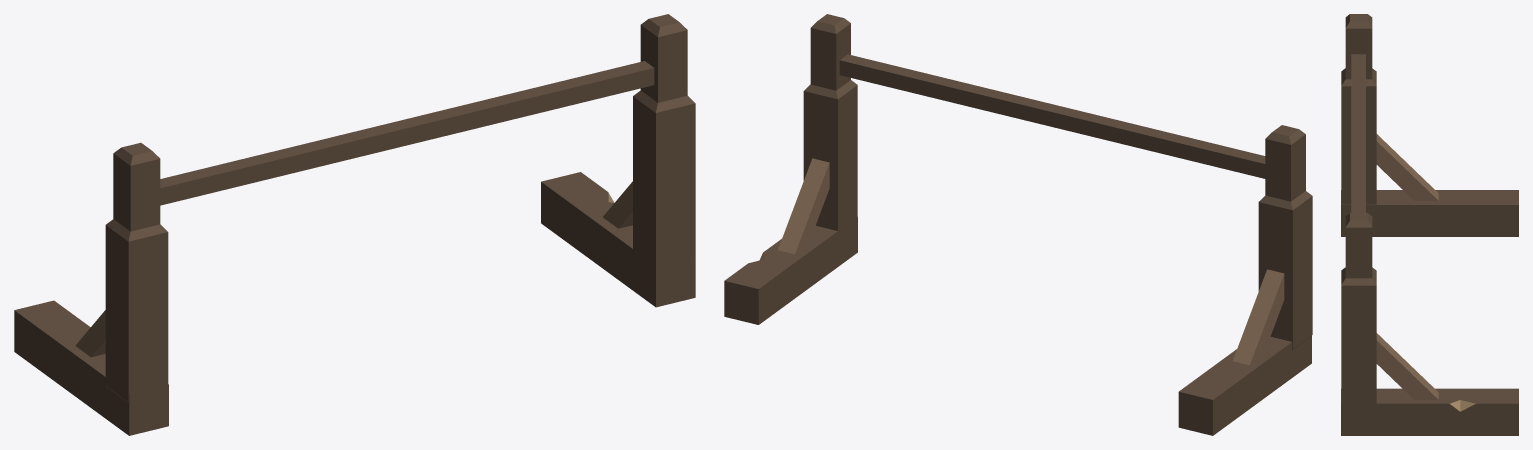
Rendered from weaponHolder.obj.
3 renders of one model, left to right at view 1: azimuth 30°, elevation 25°; view 2: azimuth 150°, elevation 25°; view 3: azimuth 270°, elevation 25°, orthographic. The views are drawn at different scales.
Visible parts, largest first — view 1: flume_support_pillar.009_flume_support_pillar.003, object1.017_object1.013, object1.022_object1.019, object1.020_object1.017, object1.013_object1.009, object3.009_object3.003, object3.010_object3.004, object1.014_object1.010, object1.021_object1.018; view 2: flume_support_pillar.009_flume_support_pillar.003, object1.020_object1.017, object1.013_object1.009, object1.017_object1.013, object1.022_object1.019, object3.009_object3.003, object3.010_object3.004, object1.014_object1.010, object1.021_object1.018; view 3: object1.020_object1.017, object1.013_object1.009, object1.022_object1.019, object1.017_object1.013, flume_support_pillar.009_flume_support_pillar.003, object3.010_object3.004, object1.014_object1.010, object1.021_object1.018, object3.009_object3.003.
Part boxes in pixels (x1,y1,x2,y2): flume_support_pillar.009_flume_support_pillar.003: (160,61,654,205); object1.017_object1.013: (105,219,168,402); object1.022_object1.019: (633,90,695,265); object1.020_object1.017: (541,172,695,307); object1.013_object1.009: (14,300,168,435); object3.009_object3.003: (113,142,160,231); object3.010_object3.004: (640,14,687,102); object1.014_object1.010: (75,310,105,357); object1.021_object1.018: (603,181,632,228); flume_support_pillar.009_flume_support_pillar.003: (839,54,1265,178); object1.020_object1.017: (724,217,857,324); object1.013_object1.009: (1178,336,1311,435); object1.017_object1.013: (1258,191,1312,349); object1.022_object1.019: (803,80,857,230); object3.009_object3.003: (1265,125,1305,201); object3.010_object3.004: (810,14,850,90); object1.014_object1.010: (1233,269,1284,365); object1.021_object1.018: (778,158,829,254); object1.020_object1.017: (1341,388,1518,435); object1.013_object1.009: (1341,190,1518,236); object1.022_object1.019: (1341,267,1376,403); object1.017_object1.013: (1341,68,1376,204); flume_support_pillar.009_flume_support_pillar.003: (1351,54,1365,212); object3.010_object3.004: (1345,213,1372,278); object1.014_object1.010: (1376,134,1438,200); object1.021_object1.018: (1376,333,1438,399); object3.009_object3.003: (1345,14,1372,79).
Bounding box in the file's own units: 43.79 × 20.18 × 15.37.
